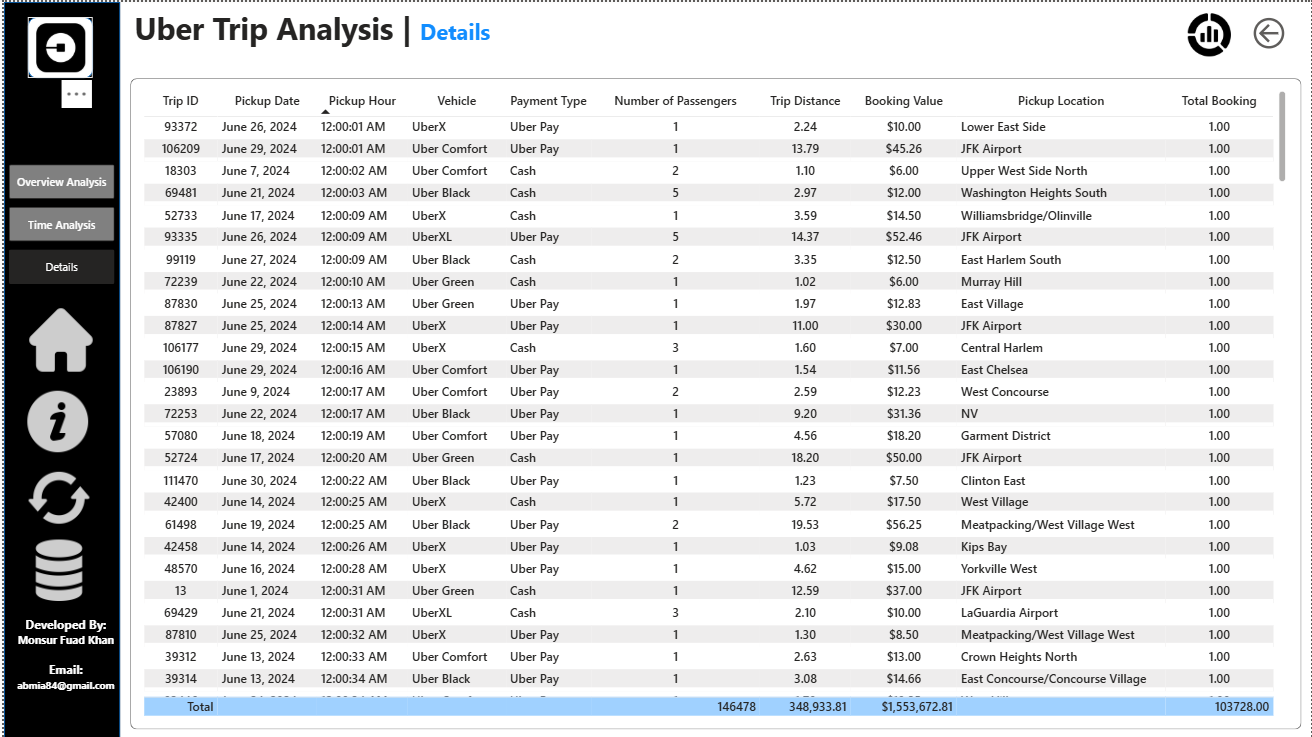

The dashboard page shown, as its layout file describes it:
{"tool":"powerbi","page":{"name":"Details","canvas":[1600,900],"ordinal":2},"visuals":[{"type":"shape","box":[0,0,142,900.5],"z":0},{"type":"textbox","box":[154.4,1.7,689.5,77.2],"z":1000},{"type":"shape","box":[154.4,93.2,1432.2,796.4],"z":2000},{"type":"tableEx","fields":{"Values":["Trip Details.Trip ID","Trip Details.pickup_date","Trip Details.Pickup Hour (HH MM SS)","Trip Details.Vehicle","Trip Details.Payment_type","Sum(Trip Details.passenger_count)","Trip Details.Total Trip Distance Measure","Trip Details.Total Booking Value","Location Table.Location","Trip Details.Total Booking"]},"box":[165.1,103.9,1407.8,773.4],"z":3000},{"type":"actionButton","box":[1521.9,14.5,50.6,48.8],"z":4000},{"type":"image","box":[1447.8,14.5,52.4,52.4],"z":5000},{"type":"shape","box":[29,18.3,80,75],"z":6000},{"type":"image","box":[29,26,81,59.6],"z":7000},{"type":"pageNavigator","box":[6.1,198.7,129.9,148.3],"z":8000},{"type":"image","box":[24.5,374.5,90.2,78],"z":9000},{"type":"image","box":[22.9,475.4,85.6,74.9],"z":10000},{"type":"image","box":[24.5,568.6,85.6,74.9],"z":11000},{"type":"image","box":[24.5,657.3,85.6,74.9],"z":12000},{"type":"textbox","box":[0,745.9,151.3,114.6],"z":13001}]}

Visuals, with their boxes on the page's 1600x900 design canvas (x1, y1, x2, y2). These are canvas units, not pixel positions in the 1312x737 screenshot, which may show the page scaled, cropped or inside an application window:
shape: bbox=(0, 0, 142, 900)
textbox: bbox=(154, 2, 844, 79)
shape: bbox=(154, 93, 1587, 890)
tableEx - Trip Details.Trip ID x Trip Details.pickup_date: bbox=(165, 104, 1573, 877)
actionButton: bbox=(1522, 14, 1572, 63)
image: bbox=(1448, 14, 1500, 67)
shape: bbox=(29, 18, 109, 93)
image: bbox=(29, 26, 110, 86)
pageNavigator: bbox=(6, 199, 136, 347)
image: bbox=(24, 374, 115, 452)
image: bbox=(23, 475, 108, 550)
image: bbox=(24, 569, 110, 644)
image: bbox=(24, 657, 110, 732)
textbox: bbox=(0, 746, 151, 860)
